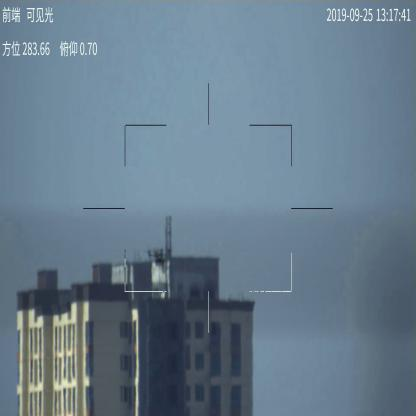uav: (150, 245, 170, 272)
